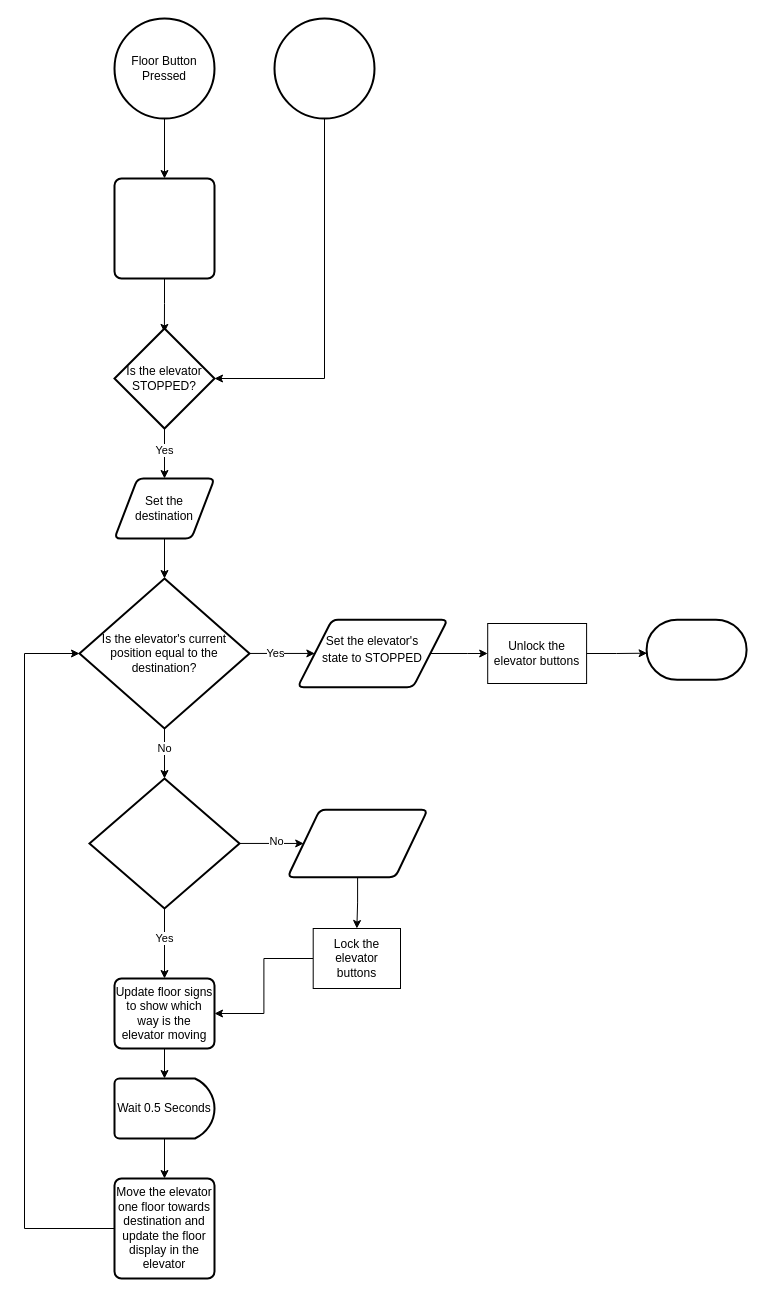
The diagram is 765 pixels wide and 1296 high, and some of its shapes have lost their labels. The shapes that lost their labels are listed below. From the top down, each one's centre as x and y in pixels, then its label:
(x=324, y=68): Elevator Button Pressed
(x=164, y=228): Get the closest elevator to the floor
(x=696, y=649): Lift reached the destination
(x=164, y=843): Is the elevator MOVING?
(x=357, y=843): Set the elevator's state to MOVING
